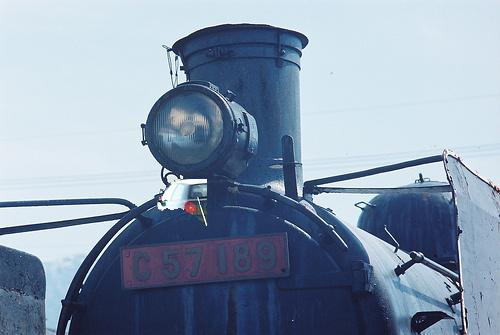tampered: (158, 180, 207, 226)
